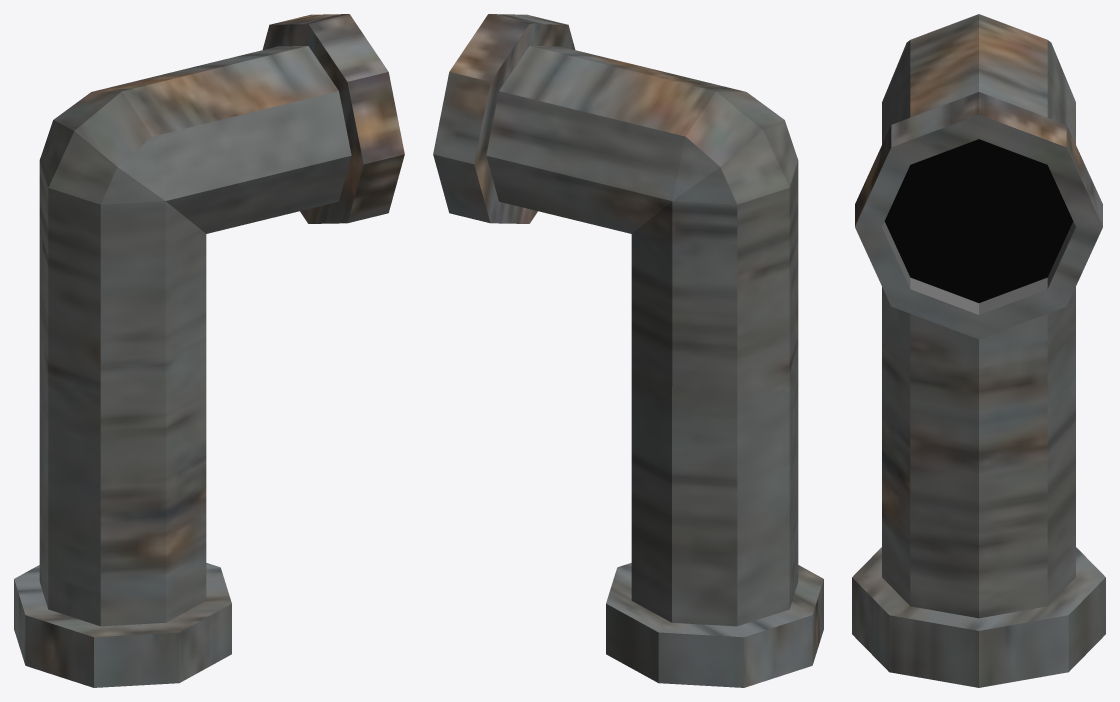
File: kerning_small_pipe_3.gltf
3 views of the same model, side by side, from view 1: azimuth 30°, elevation 25°; view 2: azimuth 150°, elevation 25°; view 3: azimuth 270°, elevation 25° (orthographic). The views are drawn at different scales.
Parts seen in each view (by area): view 1: SmallPipe3; view 2: SmallPipe3; view 3: SmallPipe3.
Boxes of the visible parts, <box> form: SmallPipe3: <box>14,14,404,687</box>; SmallPipe3: <box>433,14,823,687</box>; SmallPipe3: <box>852,14,1105,687</box>.
Size of the model in its own units: 4.34 by 7.32 by 2.61.
1 material, 1 textured.
